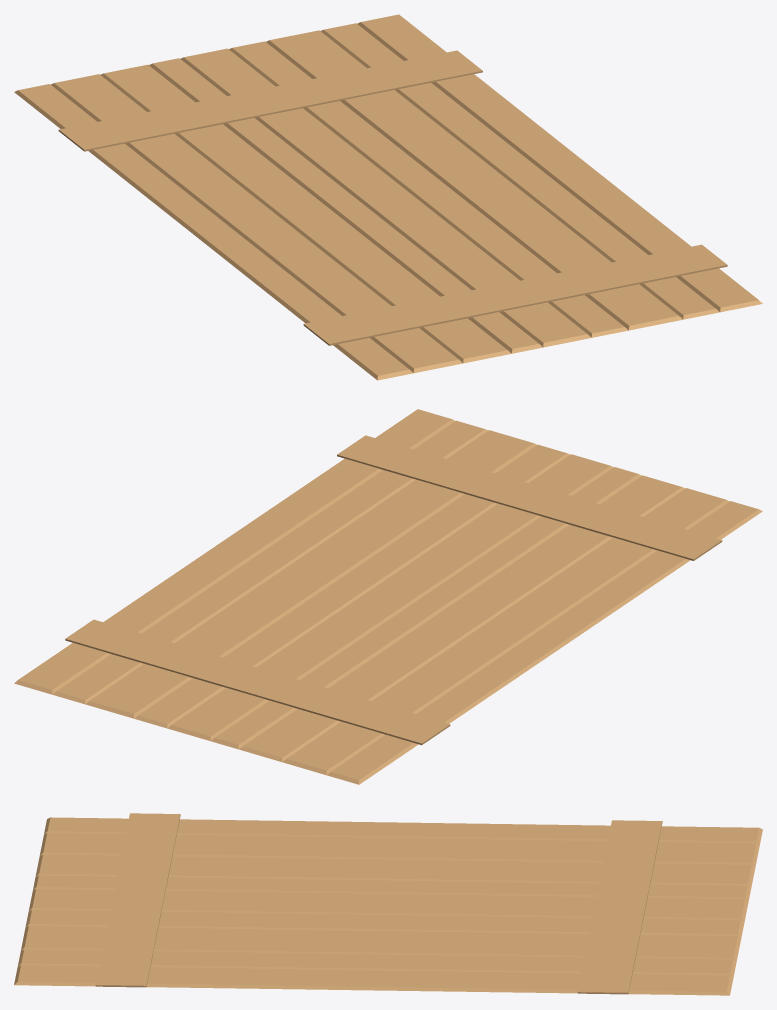
The model's file is prop_2.fbx.
3 views of the same model, one above another, from view 1: azimuth 30°, elevation 25°; view 2: azimuth 150°, elevation 25°; view 3: azimuth 270°, elevation 25° (orthographic). The views are drawn at different scales.
Visible parts, largest first — view 1: polySurface2; view 2: polySurface2; view 3: polySurface2.
Part boxes in pixels (<box>): polySurface2: <box>14,14,762,380</box>; polySurface2: <box>14,409,762,784</box>; polySurface2: <box>14,813,762,995</box>.
Bounding box in the file's own units: 467 × 5.01 × 824.
